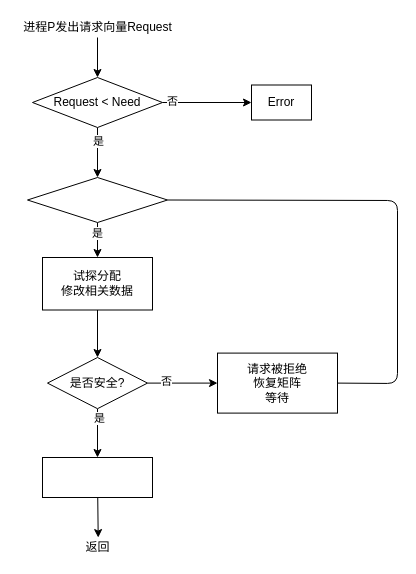
Some shapes in this 416 by 574 pixel diagram are drawn without their labels. The shapes that lost their labels are listed below. From the top down, each one's centre as x and y in pixels, then its label:
At (97,199): "Request <= Avilable".
At (97,477): "同意分配请求 正是分配".
